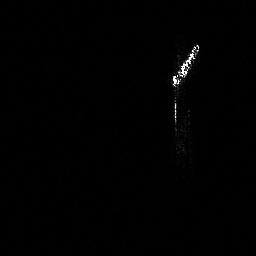ship: (168, 41, 202, 91)
